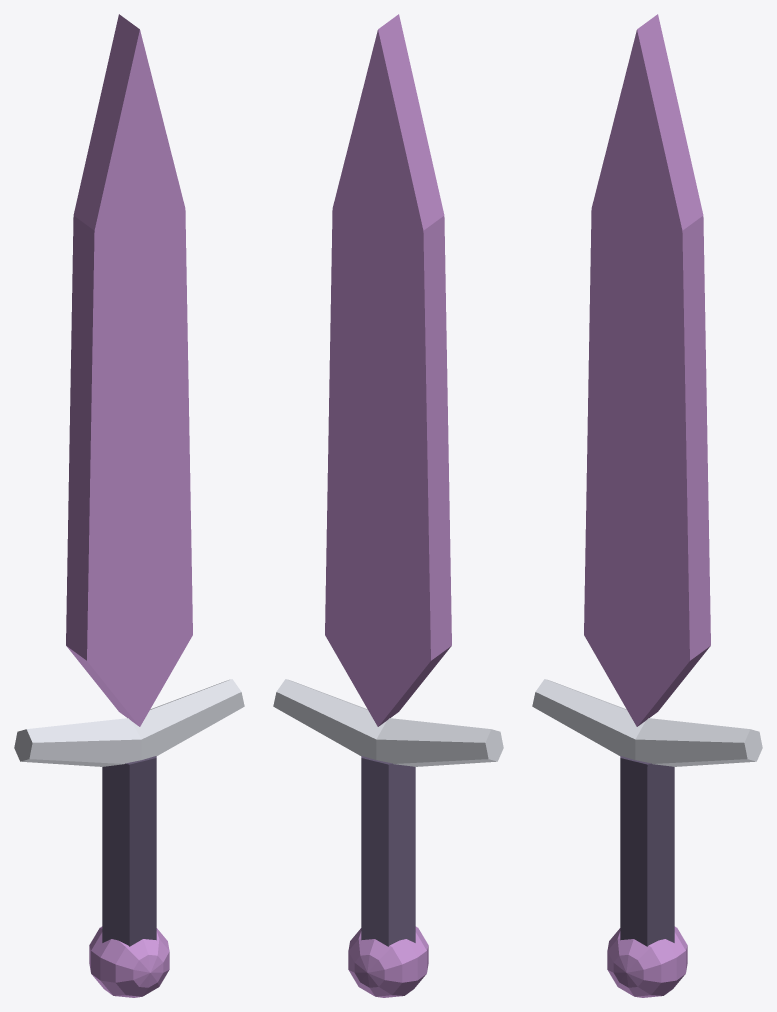
Rendered from CrystalDagger.fbx.
The picture shows the model from 3 angles, left to right: view 1: azimuth 30°, elevation 25°; view 2: azimuth 150°, elevation 25°; view 3: azimuth 330°, elevation 25°; orthographic projection.
Parts seen in each view (by area): view 1: Prop_CrystalDagger; view 2: Prop_CrystalDagger; view 3: Prop_CrystalDagger.
Part boxes in pixels (<box>): Prop_CrystalDagger: <box>14,14,244,997</box>; Prop_CrystalDagger: <box>273,14,503,997</box>; Prop_CrystalDagger: <box>532,14,762,997</box>.
Size of the model in its own units: 0.1442 by 0.6134 by 0.048.
